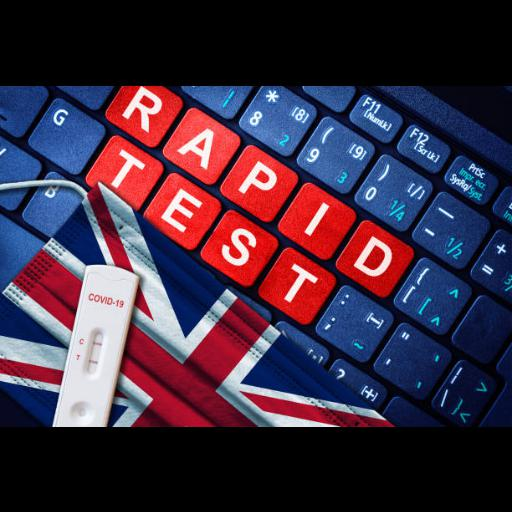Pos: (53, 264, 138, 425)
